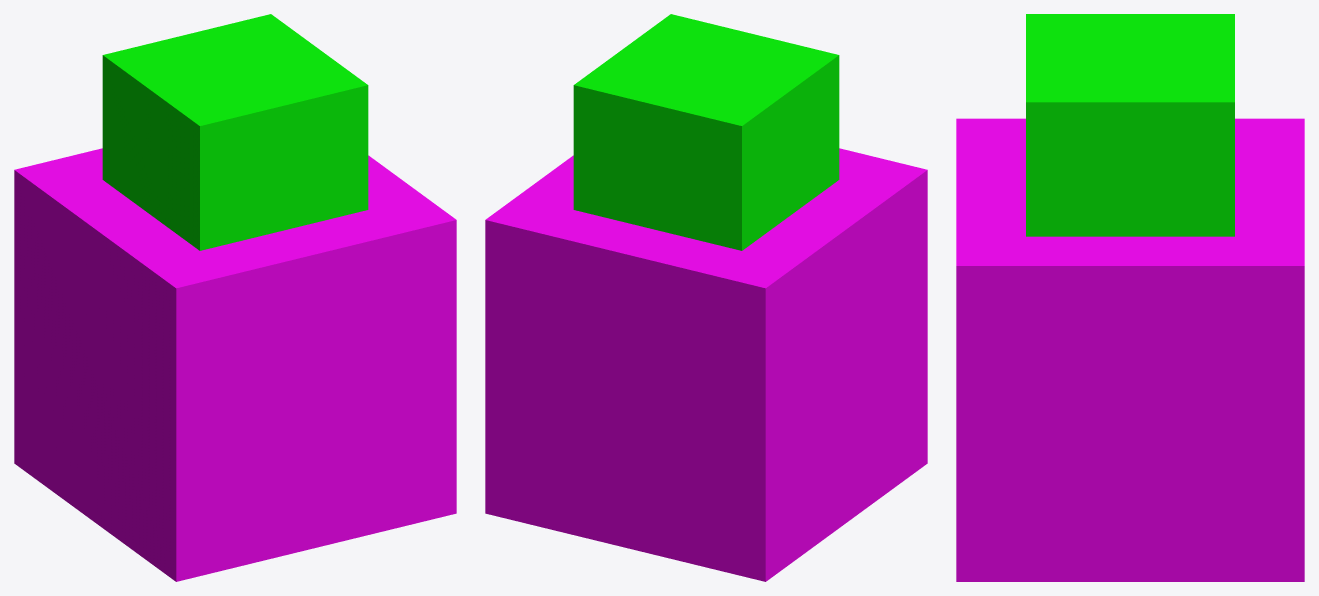
File: probe_model_r1.glb
3 views of the same model, side by side, from view 1: azimuth 30°, elevation 25°; view 2: azimuth 150°, elevation 25°; view 3: azimuth 270°, elevation 25° (orthographic). The views are drawn at different scales.
Visible parts, largest first — view 1: Body, Cargo; view 2: Body, Cargo; view 3: Body, Cargo.
Boxes of the visible parts, x1,y1,x2,y2 form: Body: (14,148,456,581); Cargo: (102,14,368,250); Body: (485,148,927,581); Cargo: (573,14,839,250); Body: (956,118,1304,581); Cargo: (1026,14,1234,236).
Bounding box in the file's own units: 0.4 × 0.57 × 0.4.
